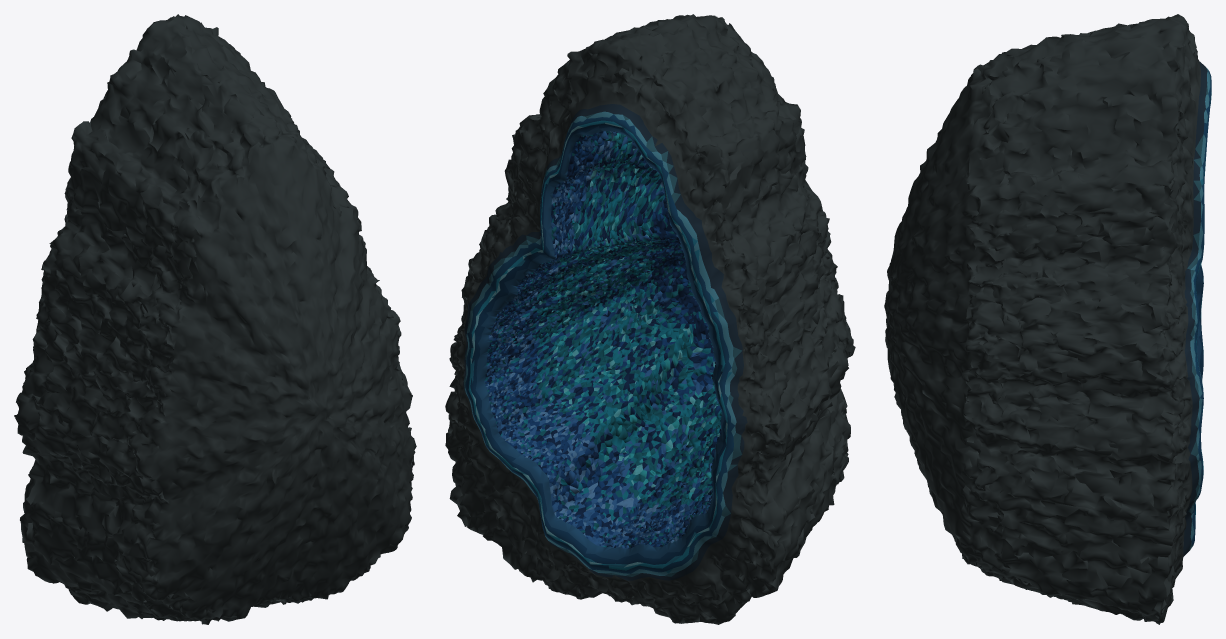
The model's file is matching-cap.glb.
3 renders of one model, left to right at view 1: azimuth 30°, elevation 25°; view 2: azimuth 150°, elevation 25°; view 3: azimuth 270°, elevation 25°, orthographic.
Visible parts, largest first — view 1: Matching geode front half; view 2: Matching geode front half; view 3: Matching geode front half.
Boxes of the visible parts, bbox=[...] form: Matching geode front half: bbox=[14, 14, 416, 624]; Matching geode front half: bbox=[445, 14, 855, 624]; Matching geode front half: bbox=[884, 14, 1211, 624].
Size of the model in its own units: 0.4924 by 0.8021 by 0.4207.
